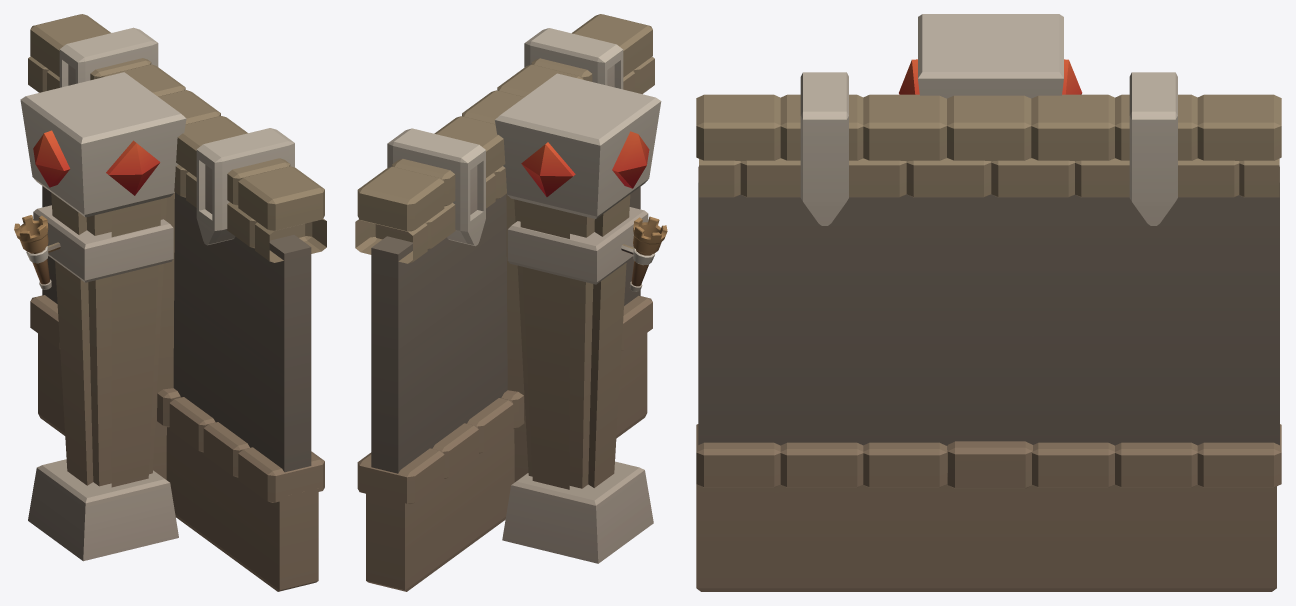
File: dungeonkit_stone_wall.fbx
3 renders of one model, left to right at view 1: azimuth 30°, elevation 25°; view 2: azimuth 150°, elevation 25°; view 3: azimuth 270°, elevation 25°, orthographic. The views are drawn at different scales.
Parts seen in each view (by area): view 1: Cube.004; view 2: Cube.004; view 3: Cube.004.
Boxes of the visible parts, x1,y1,x2,y2 form: Cube.004: [14, 14, 326, 591]; Cube.004: [355, 14, 667, 591]; Cube.004: [696, 14, 1281, 591].
Size of the model in its own units: 326 by 661 by 688.
